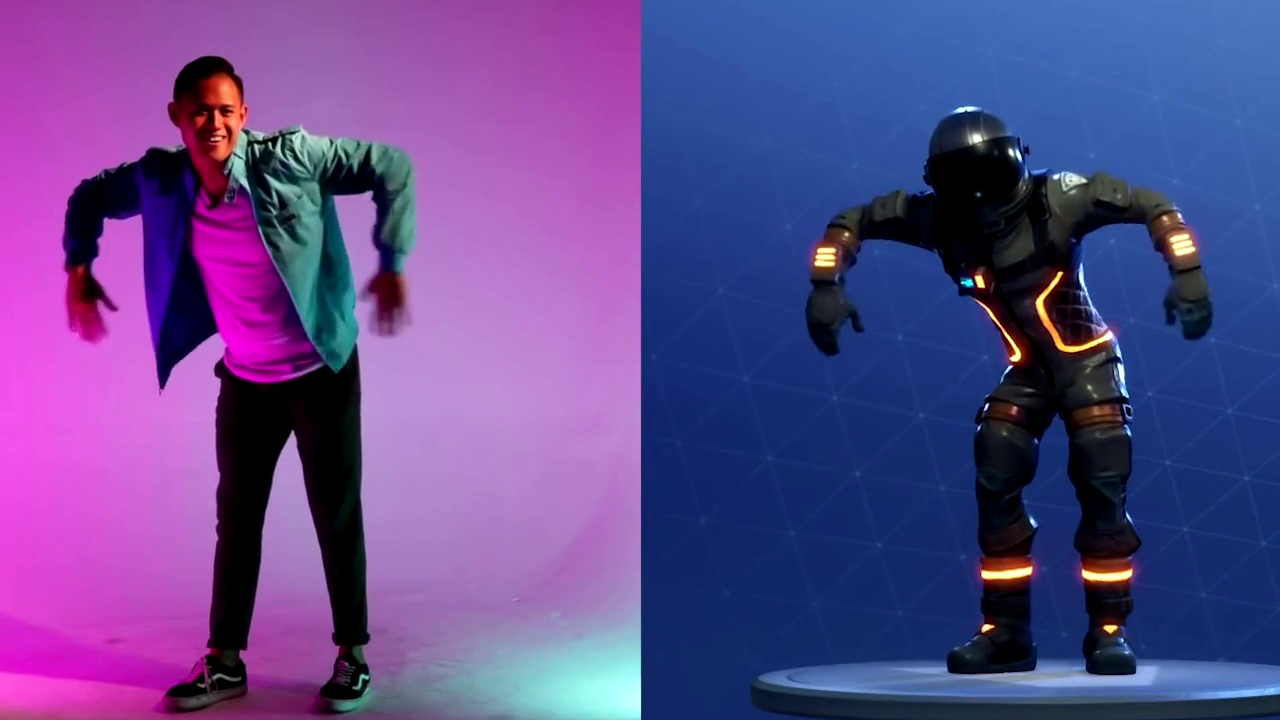Head: (157, 48, 260, 168)
Hip: (182, 319, 377, 448)
LeftAnkle: (293, 630, 404, 712)
LeftElbow: (342, 142, 441, 218)
LeftKnee: (289, 471, 388, 562)
LeftShoulder: (256, 117, 350, 206)
LeftWrist: (358, 251, 440, 357)
RightAnkle: (135, 629, 267, 716)
RightElbow: (50, 154, 131, 241)
RightKnee: (186, 474, 278, 568)
RightShoulder: (123, 129, 197, 205)
RightWrist: (38, 264, 137, 362)
Torso: (143, 148, 355, 374)
